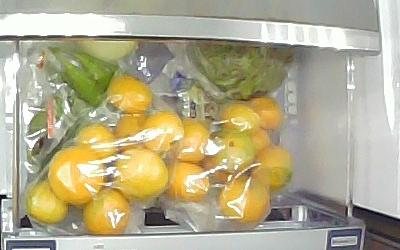tangerine_vinyl: (50, 146, 108, 207), (220, 176, 272, 226), (117, 150, 168, 199), (82, 189, 130, 237), (107, 76, 155, 115), (26, 181, 68, 225), (141, 112, 184, 152), (73, 123, 119, 160), (254, 146, 293, 189), (167, 164, 210, 203), (211, 133, 253, 170), (174, 123, 212, 162), (221, 102, 259, 134), (112, 114, 150, 146), (250, 96, 281, 132), (245, 126, 270, 157)
